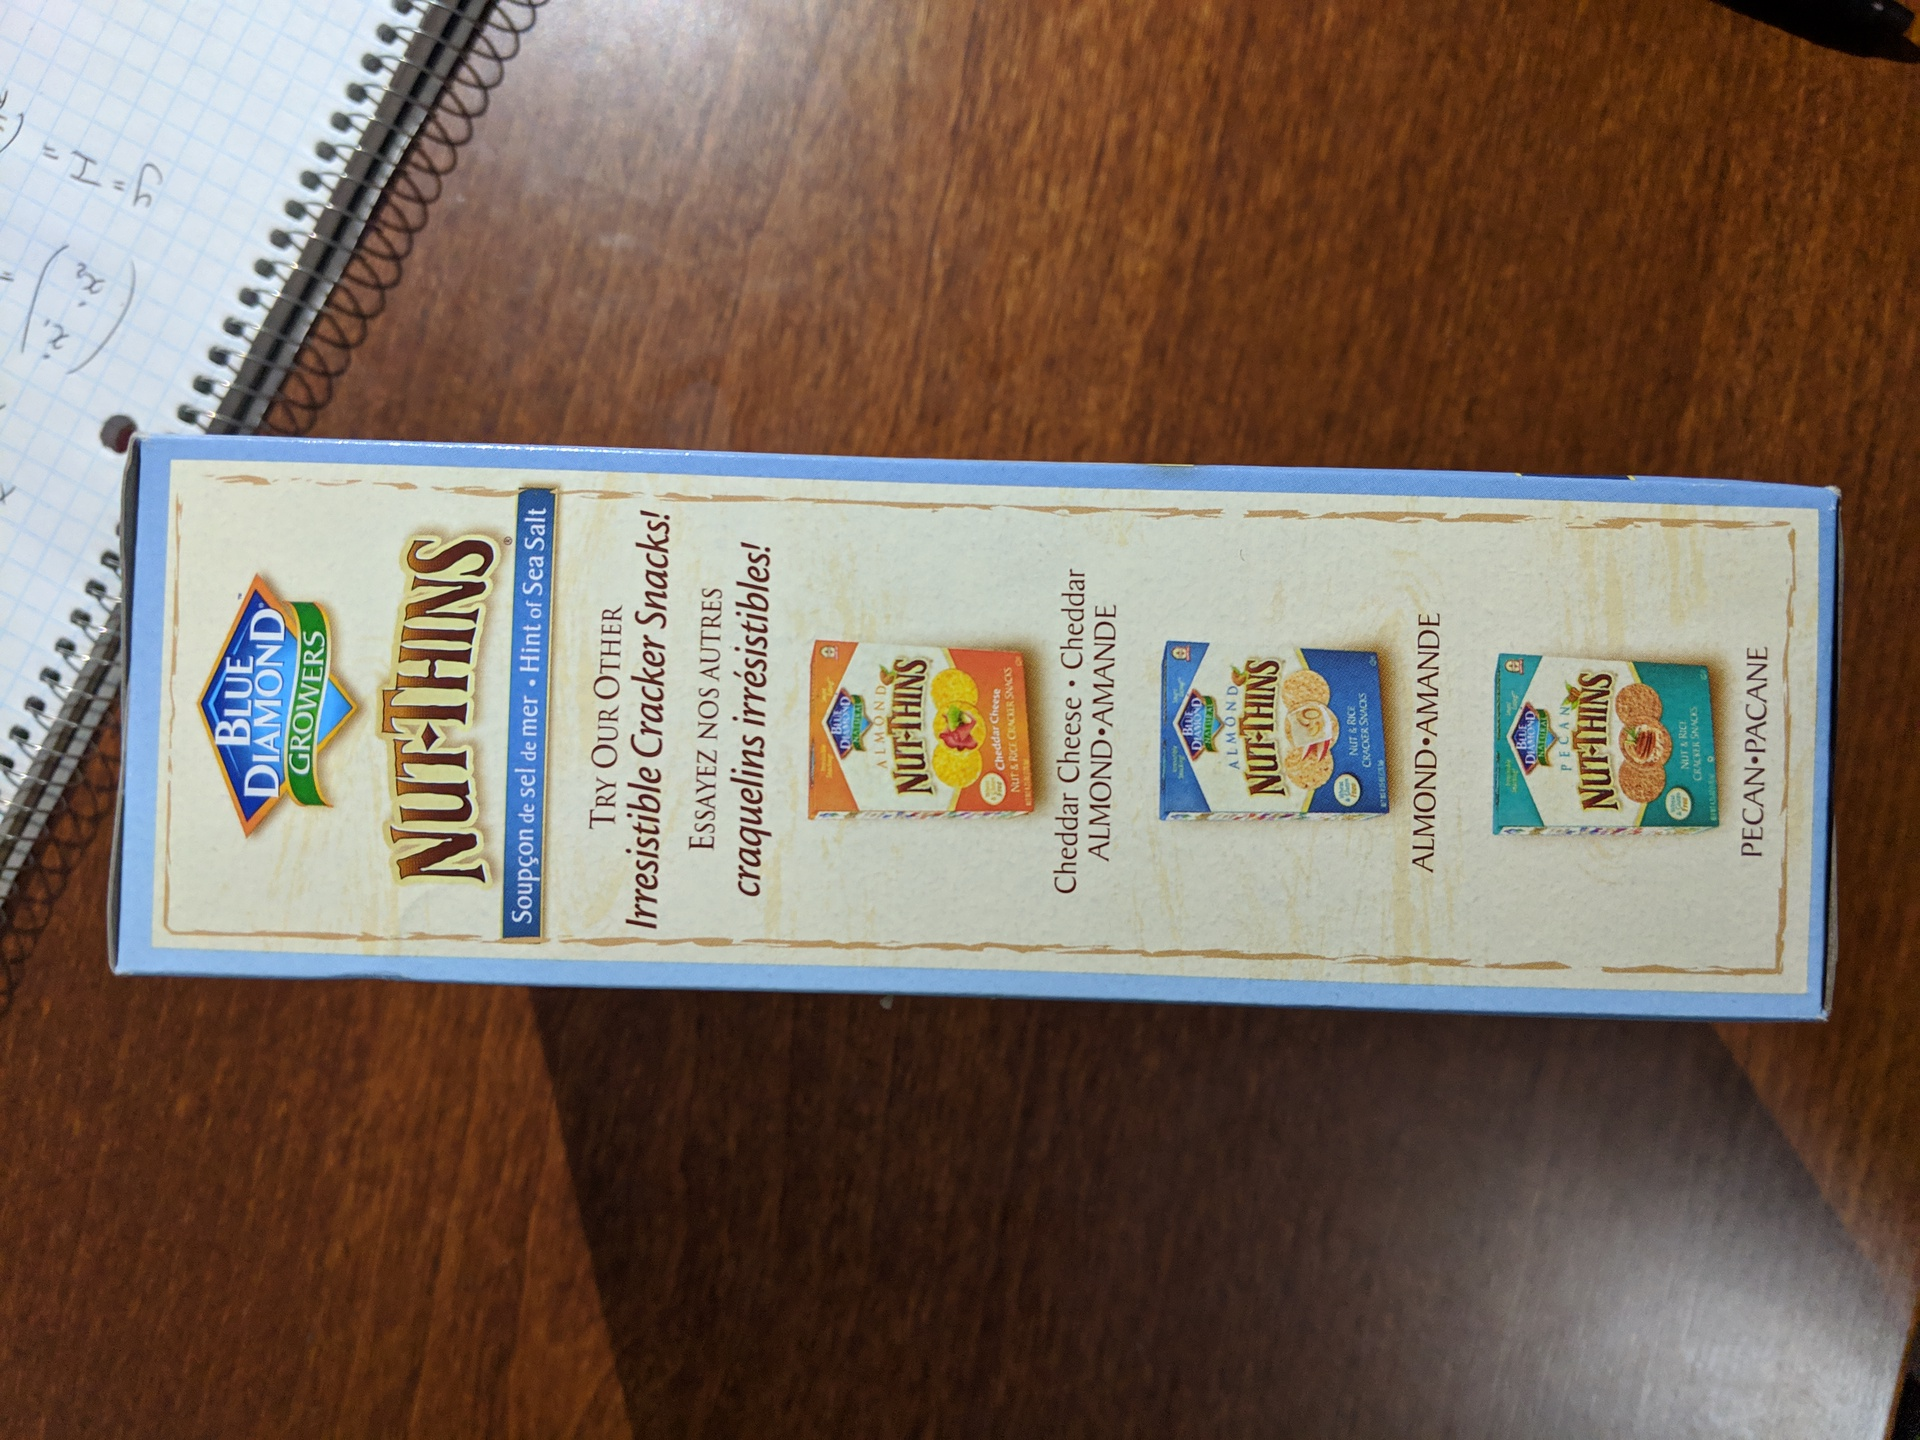blue_diamond_nut_thins_almond_seasalt: (113, 437, 1838, 1024)
